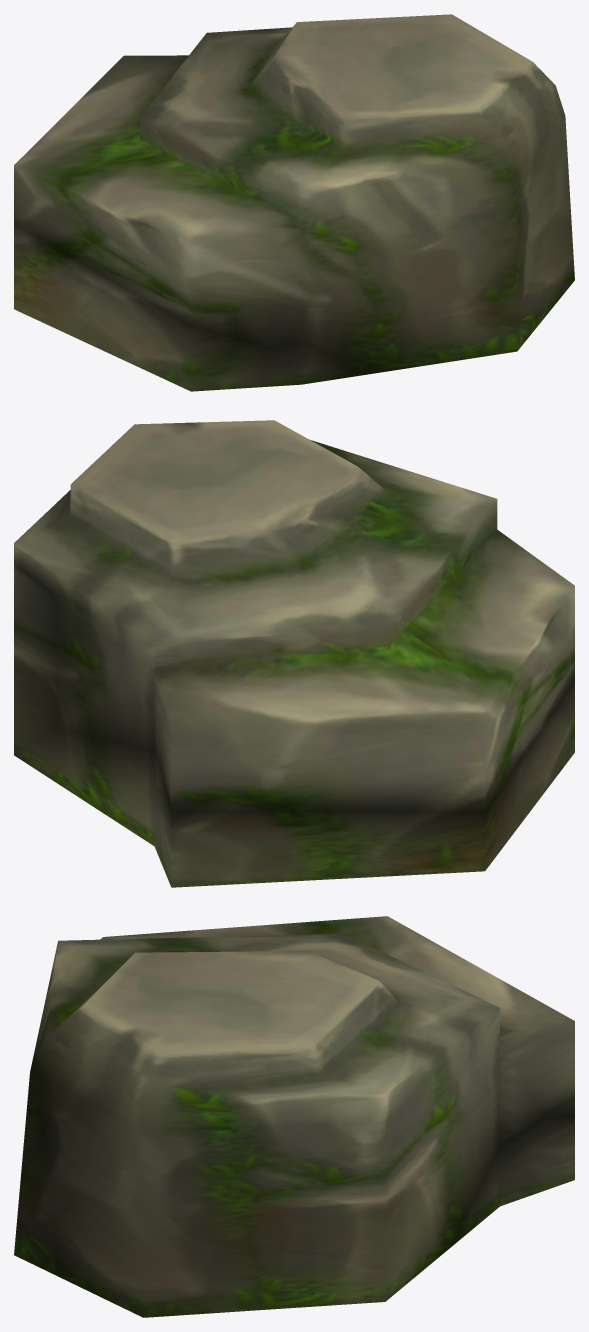
File: RockFormation_4_5 (33).fbx
3 views of the same model, one above another, from view 1: azimuth 30°, elevation 25°; view 2: azimuth 150°, elevation 25°; view 3: azimuth 270°, elevation 25° (orthographic). The views are drawn at different scales.
Parts seen in each view (by area): view 1: RockFormation_4_5 (33); view 2: RockFormation_4_5 (33); view 3: RockFormation_4_5 (33).
Boxes of the visible parts, bbox=[...] form: RockFormation_4_5 (33): bbox=[14, 14, 574, 391]; RockFormation_4_5 (33): bbox=[14, 420, 574, 887]; RockFormation_4_5 (33): bbox=[14, 916, 574, 1317].
Size of the model in its own units: 149 by 70.11 by 146.
